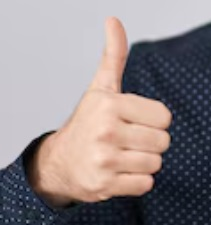best: (75, 16, 171, 203)
